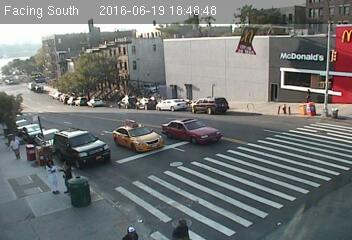neg: (264, 131, 285, 159), (35, 14, 55, 41), (122, 120, 142, 146), (114, 48, 129, 68), (183, 73, 197, 92), (222, 83, 234, 100), (247, 16, 259, 32)
pos: (37, 158, 65, 195), (54, 156, 80, 190), (1, 133, 22, 162), (302, 86, 314, 102)
